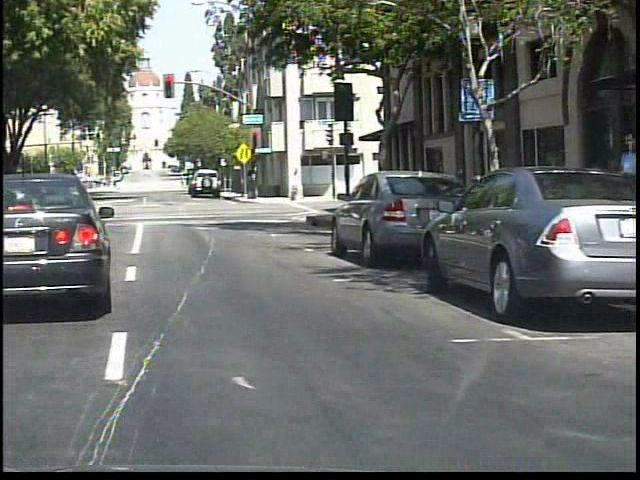person: (594, 132, 639, 276), (14, 173, 34, 210), (2, 175, 19, 212)
